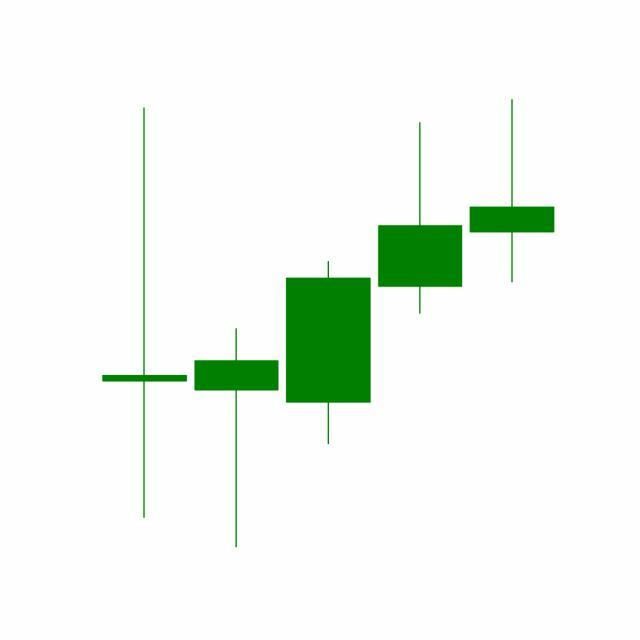Advance Block: (280, 100, 555, 450)
